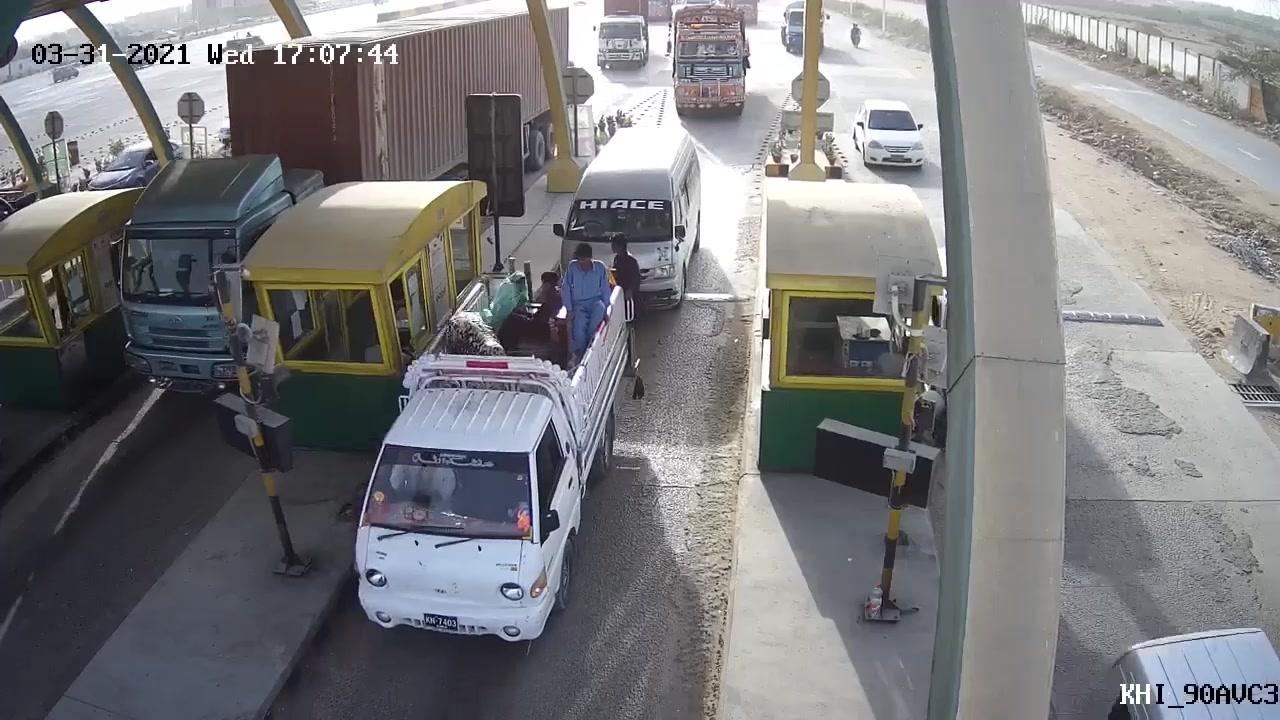F2: (314, 277, 638, 644)
